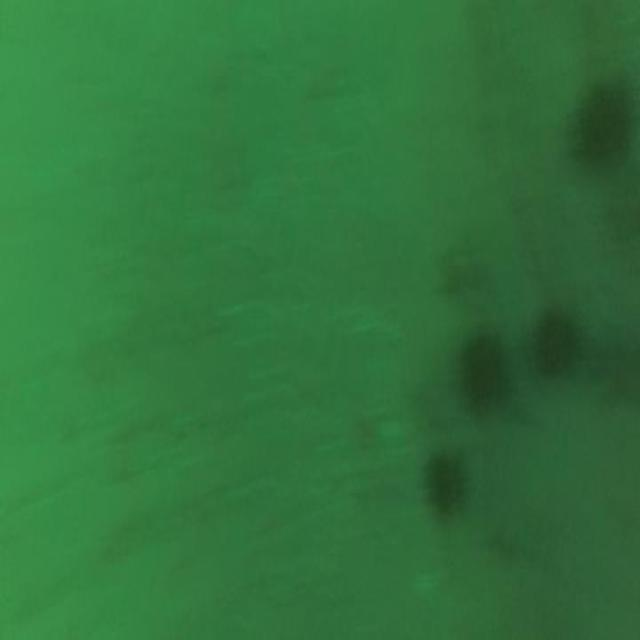echinus: (570, 71, 634, 179), (450, 319, 514, 422), (530, 294, 580, 392), (425, 441, 475, 528)
starfish: (595, 312, 640, 420)
